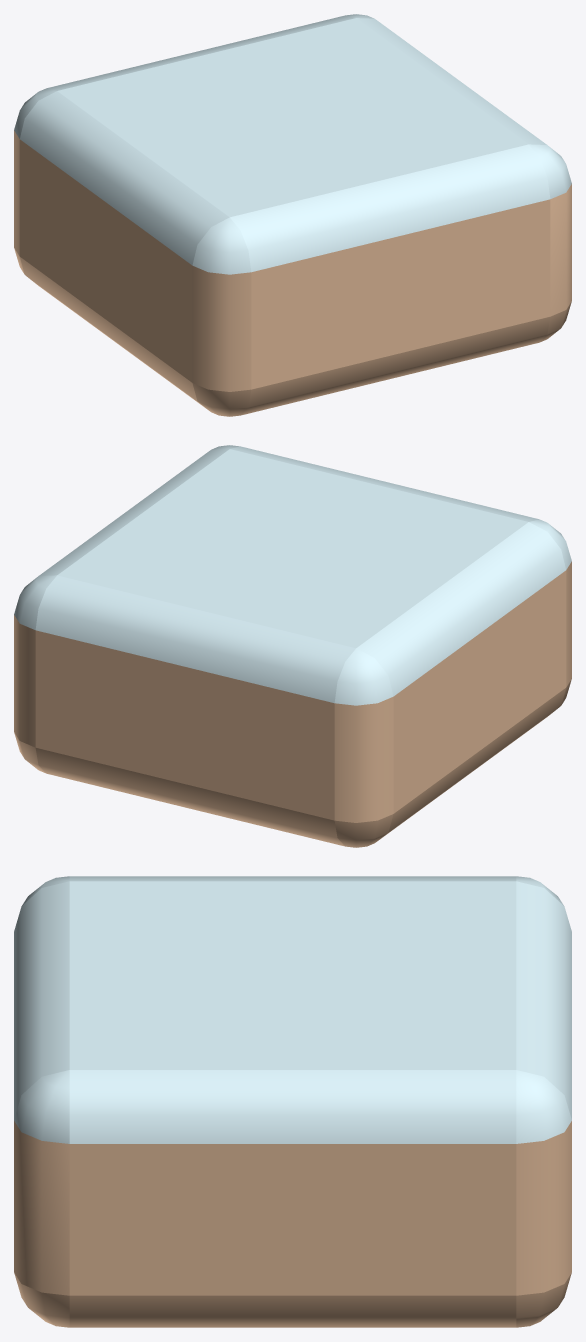
File: blockSnowRoundedLow.glb
The picture shows the model from 3 angles, top to bottom: view 1: azimuth 30°, elevation 25°; view 2: azimuth 150°, elevation 25°; view 3: azimuth 270°, elevation 25°; orthographic projection. The views are drawn at different scales.
Visible parts, largest first — view 1: blockSnowRoundedLow; view 2: blockSnowRoundedLow; view 3: blockSnowRoundedLow.
Boxes of the visible parts, bbox=[...] form: blockSnowRoundedLow: bbox=[14, 14, 571, 416]; blockSnowRoundedLow: bbox=[14, 445, 571, 847]; blockSnowRoundedLow: bbox=[14, 876, 571, 1327].
Bounding box in the file's own units: 1 × 0.5 × 1.
